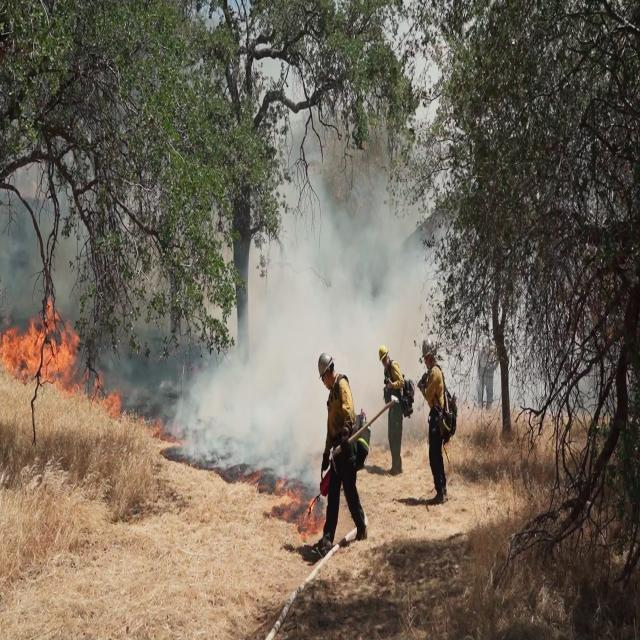Fire: (0, 299, 84, 382), (85, 373, 136, 429)
Smoke: (175, 177, 478, 478)
